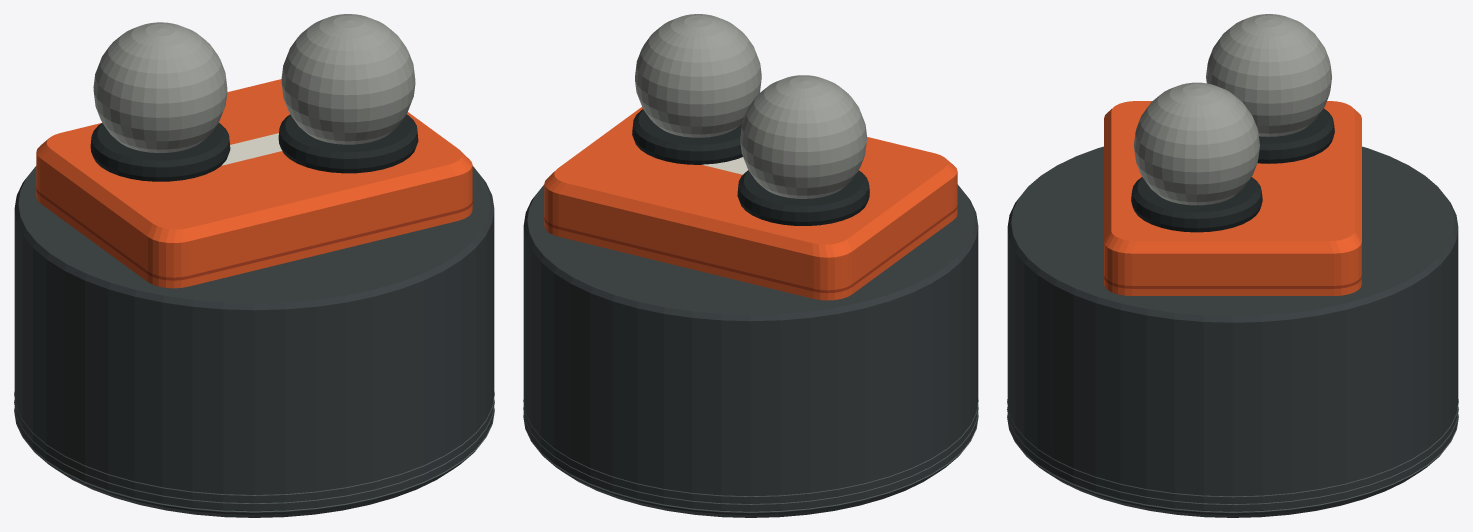
Rendered from left-8.glb.
3 renders of one model, left to right at view 1: azimuth 30°, elevation 25°; view 2: azimuth 150°, elevation 25°; view 3: azimuth 270°, elevation 25°, orthographic. The views are drawn at different scales.
Parts seen in each view (by area): view 1: Carried cylinder; view 2: Carried cylinder; view 3: Carried cylinder.
Boxes of the visible parts, bbox=[...] form: Carried cylinder: bbox=[14, 14, 494, 517]; Carried cylinder: bbox=[523, 14, 978, 517]; Carried cylinder: bbox=[1007, 14, 1458, 517].
Bounding box in the file's own units: 0.0501 × 0.0456 × 0.0501.
